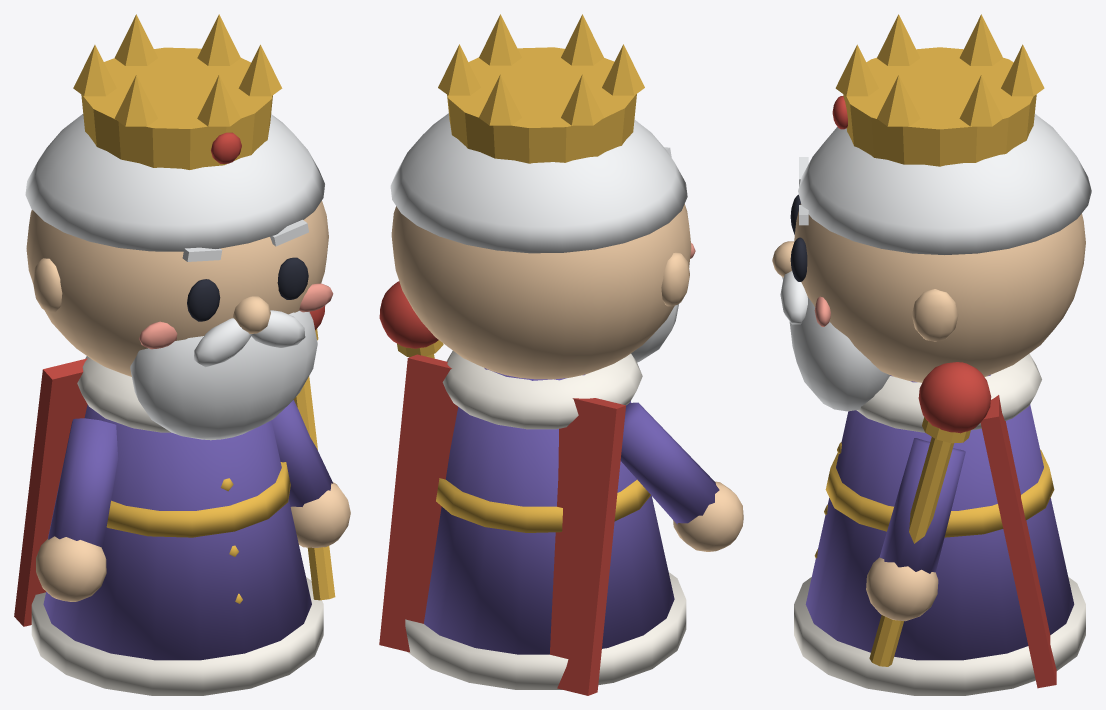
File: npc_king.glb
3 renders of one model, left to right at view 1: azimuth 30°, elevation 25°; view 2: azimuth 150°, elevation 25°; view 3: azimuth 270°, elevation 25°, orthographic.
Parts seen in each view (by area): view 1: robe, hair, head_ball, crown_band, beard, robe_hem, cape, arm_0, robe_belt, hand_0, arm_1, collar (+18 smaller); view 2: head_ball, robe, cape, hair, crown_band, robe_hem, collar, arm_0, robe_belt, hand_0, sceptre_orb, crown_point_3 (+7 smaller); view 3: robe, head_ball, hair, crown_band, robe_hem, cape, beard, arm_1, collar, robe_belt, sceptre_orb, sceptre_rod (+12 smaller).
Part boxes in pixels (x1,y1,x2,y2): robe: (43,404,311,660); hair: (25,114,324,251); head_ball: (26,201,328,376); crown_band: (81,47,272,169); beard: (130,311,317,440); robe_hem: (31,577,323,695); cape: (14,358,87,626); arm_0: (48,418,118,549); robe_belt: (106,462,290,537); hand_0: (36,536,106,601); arm_1: (271,400,333,506); collar: (77,356,170,432); head_ball: (391,204,691,379); robe: (424,401,674,654); cape: (379,354,625,695); hair: (390,113,687,253); crown_band: (447,47,636,163); robe_hem: (405,572,686,689); collar: (442,351,642,429); arm_0: (620,402,719,524); robe_belt: (436,478,650,532); hand_0: (673,481,743,551); sceptre_orb: (379,281,438,348); crown_point_3: (561,14,603,65); robe: (805,404,1074,660); head_ball: (794,204,1085,382); hair: (798,114,1091,254); crown_band: (843,47,1036,166); robe_hem: (794,577,1085,695); cape: (980,395,1056,688); beard: (789,297,890,411); arm_1: (879,438,965,573); collar: (856,353,1041,432); robe_belt: (825,449,1054,537); sceptre_orb: (918,362,991,433); sceptre_rod: (869,437,954,666).
Size of the model in its own units: 0.7571 by 1.35 by 0.657.
